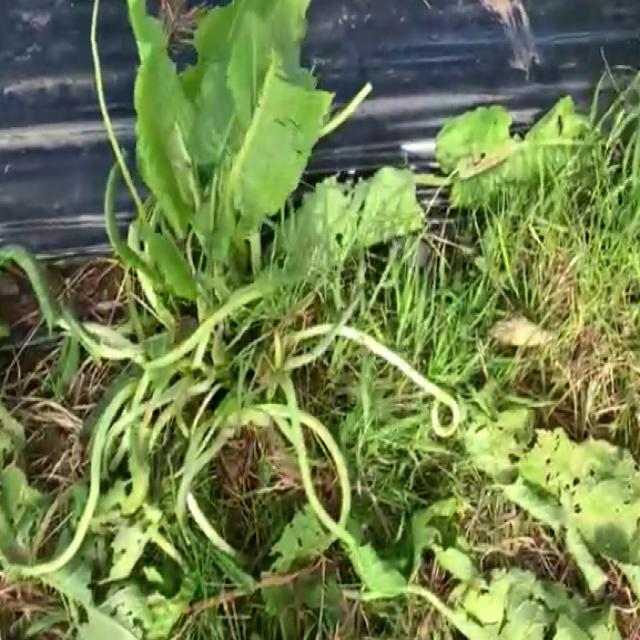organic waste: (42, 0, 615, 640), (260, 231, 640, 639), (65, 0, 407, 405), (48, 278, 344, 640)
